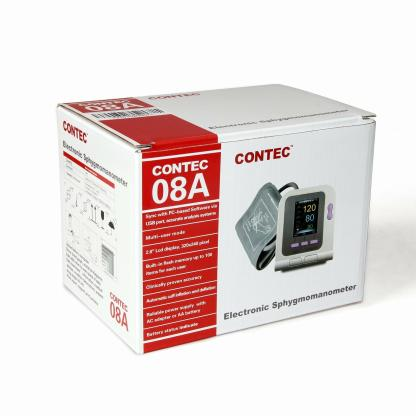Displays: (293, 198, 319, 237)
